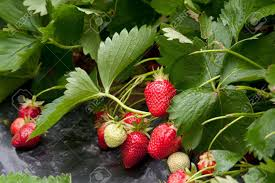ripe: (146, 120, 186, 161), (144, 75, 176, 118), (119, 130, 151, 171), (12, 123, 43, 149), (95, 116, 115, 146), (197, 148, 219, 174), (12, 115, 35, 135), (122, 109, 143, 129), (17, 99, 39, 118), (164, 172, 202, 182)
unripe: (103, 123, 127, 149), (167, 151, 191, 174)
